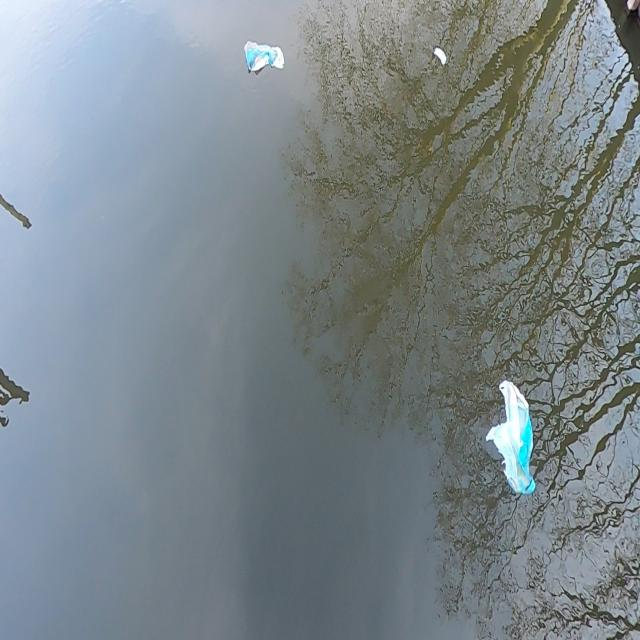Non plastique: (431, 44, 452, 72)
Sac plastique: (481, 366, 541, 505), (239, 34, 290, 78)
